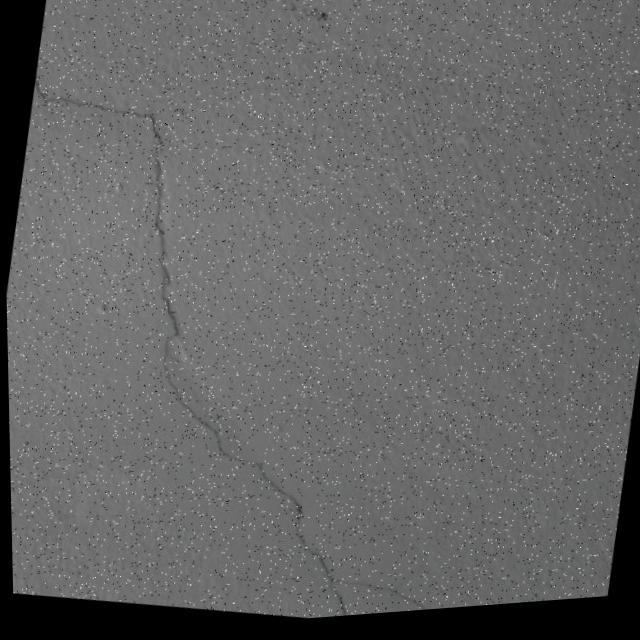Crack: (1, 34, 545, 640)
